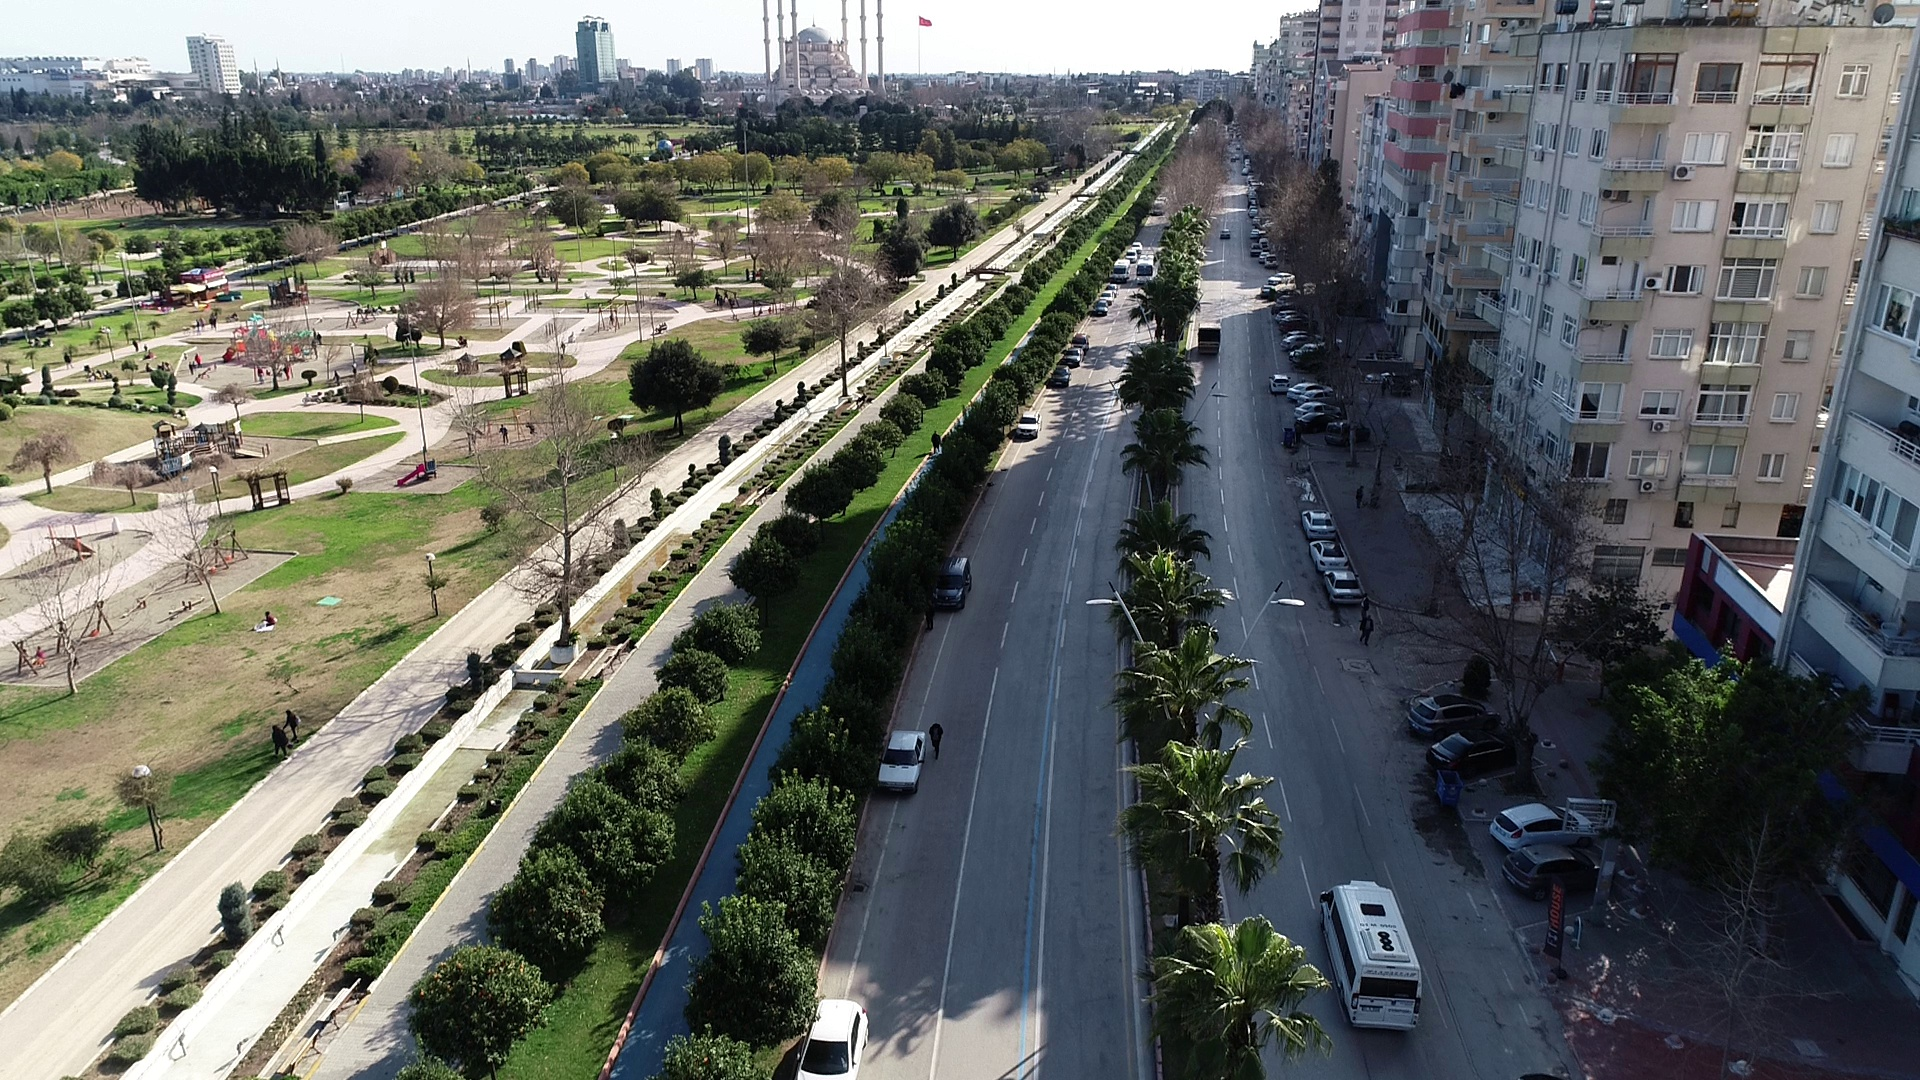bus: (1317, 875, 1439, 1037)
car: (1484, 788, 1596, 861), (1423, 715, 1539, 780), (1506, 843, 1623, 896), (804, 994, 876, 1080), (1410, 686, 1515, 739), (874, 721, 929, 806), (1319, 568, 1376, 610), (1298, 539, 1357, 576), (1294, 506, 1347, 545), (1014, 412, 1045, 449)
person: (259, 717, 296, 759), (925, 710, 949, 766), (286, 702, 314, 747), (1359, 612, 1388, 647), (925, 421, 945, 459), (921, 594, 939, 633), (1351, 480, 1368, 515)
